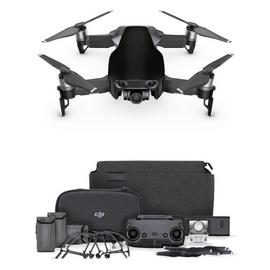drone: (35, 10, 236, 122)
